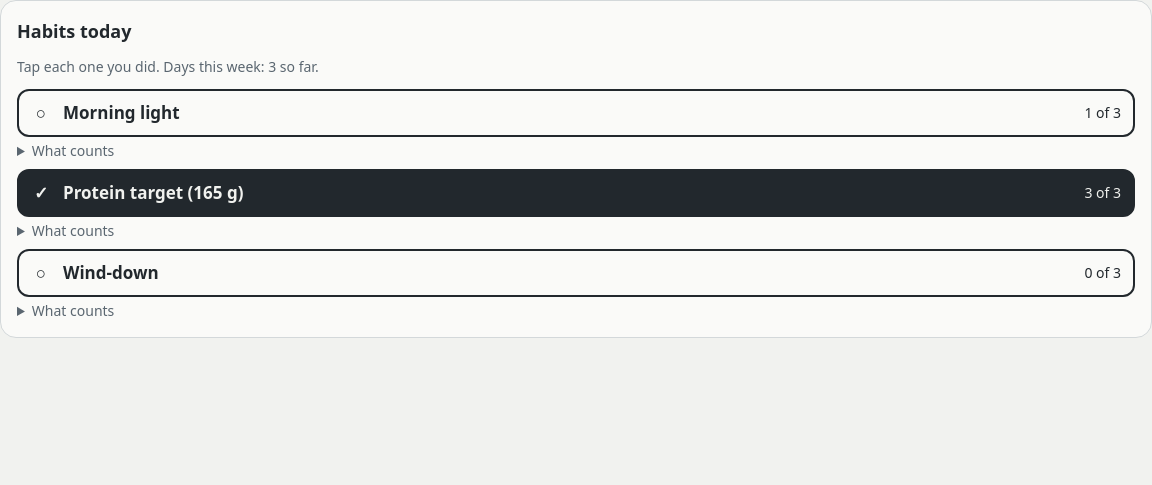
an ended sign-in points to sign in
The image size is (1152, 485).
What coordinates should you click on to do the following:
click the button "○ Wind-down 0 of 3"
I would click on:
 (111, 272)
Its box is [17,249,1135,297].
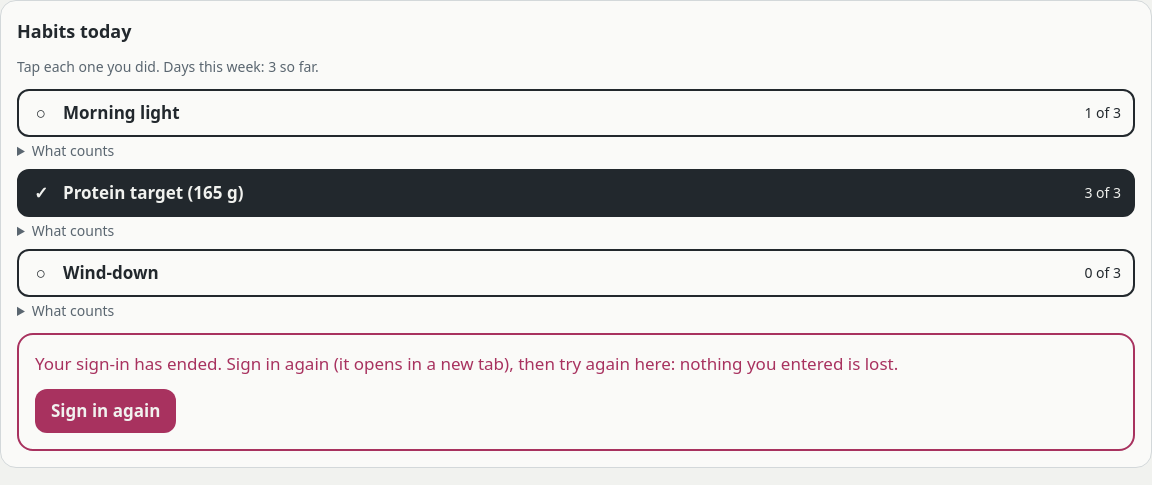
Result: the link "Sign in again" is shown at [35,389,176,433]
